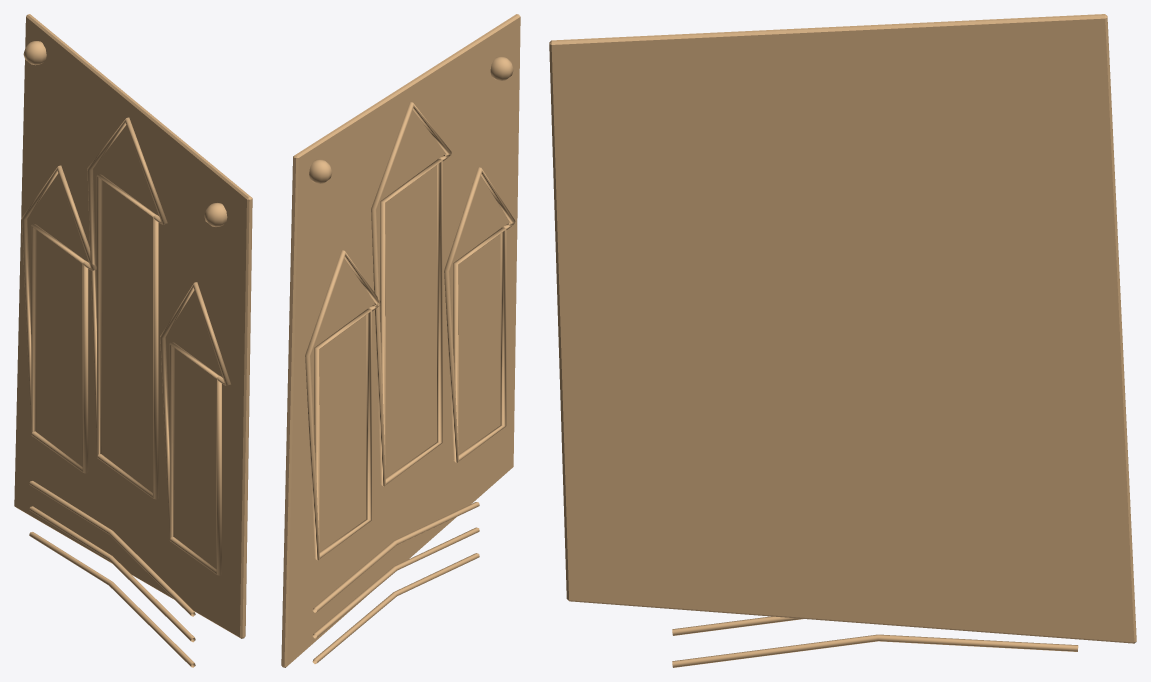
Rendered from SM_Menu_ScenicPlans.fbx.
3 renders of one model, left to right at view 1: azimuth 30°, elevation 25°; view 2: azimuth 150°, elevation 25°; view 3: azimuth 270°, elevation 25°, orthographic. The views are drawn at different scales.
Visible parts, largest first — view 1: SM_Menu_ScenicPlans; view 2: SM_Menu_ScenicPlans; view 3: SM_Menu_ScenicPlans.
Boxes of the visible parts, <box> form: SM_Menu_ScenicPlans: <box>14,14,252,667</box>; SM_Menu_ScenicPlans: <box>281,14,520,667</box>; SM_Menu_ScenicPlans: <box>549,14,1136,667</box>.
Bounding box in the file's own units: 5.36 × 99.97 × 124.
